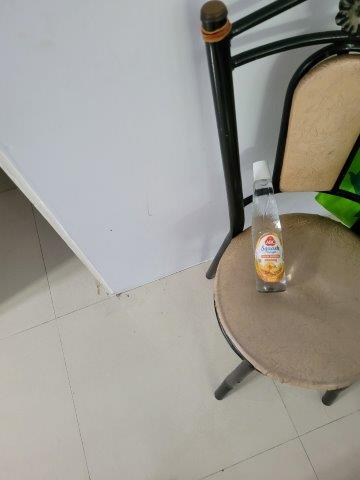botolkaca: (251, 161, 287, 292)
